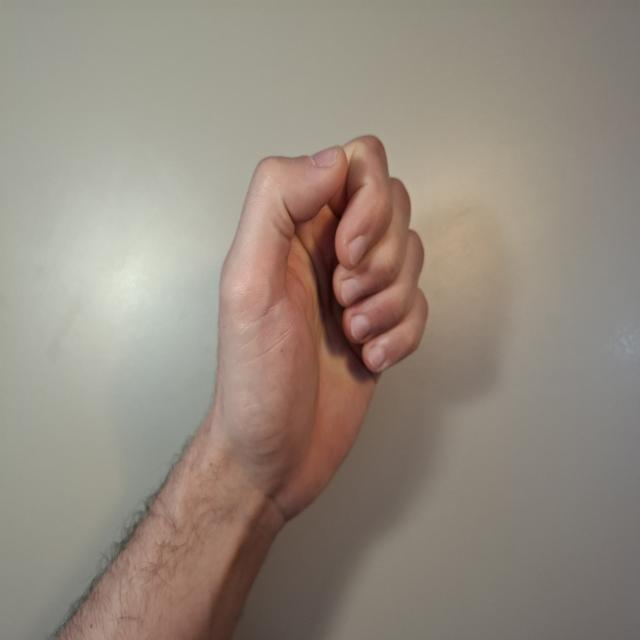glove_off: (211, 129, 431, 540)
